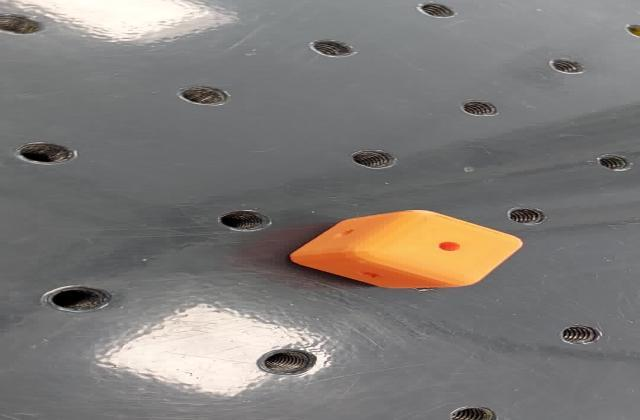cube: (278, 208, 528, 290)
